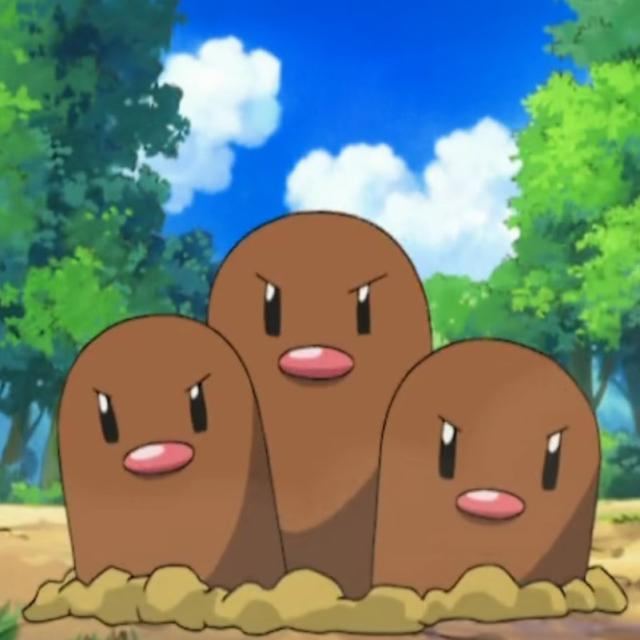Dugtrio: (53, 208, 600, 588)
